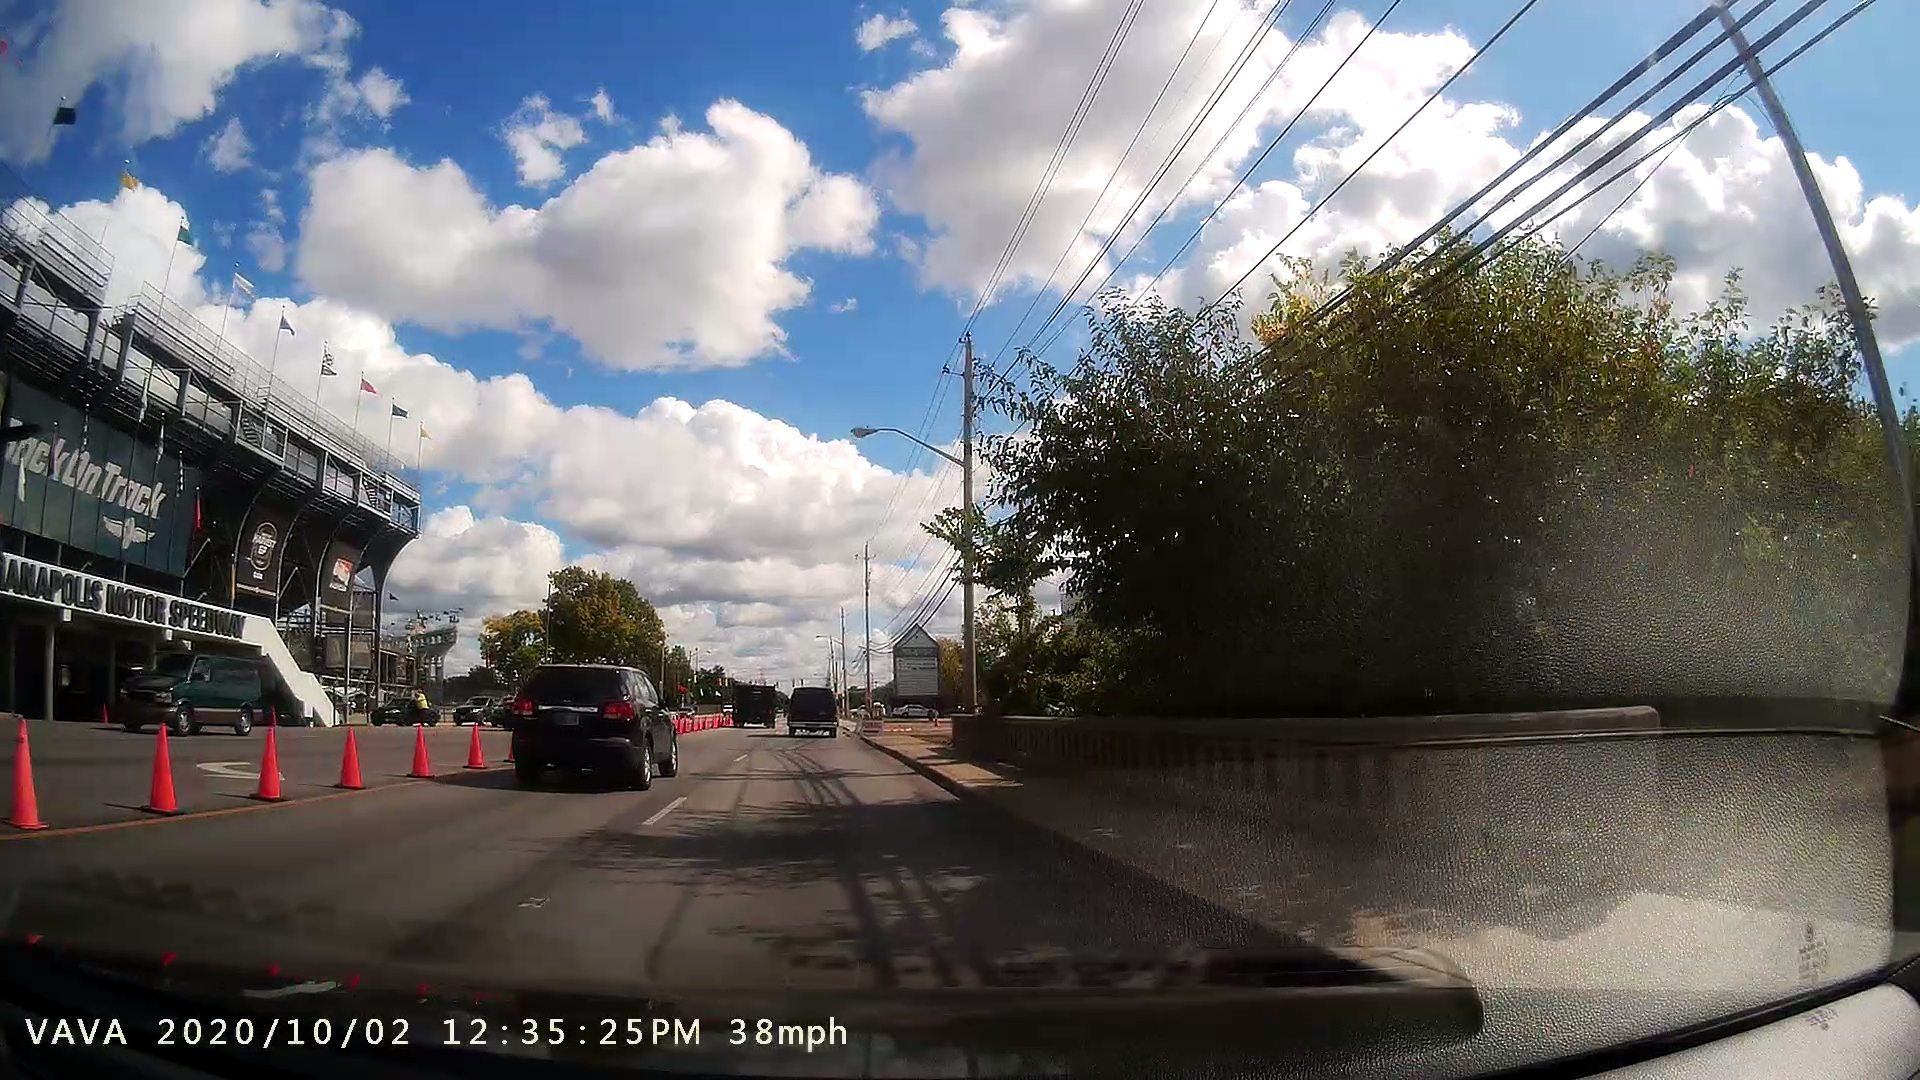const_cone: (0, 702, 54, 840), (135, 717, 193, 818), (323, 716, 376, 803), (249, 715, 297, 808), (400, 717, 443, 789), (462, 709, 492, 781)
